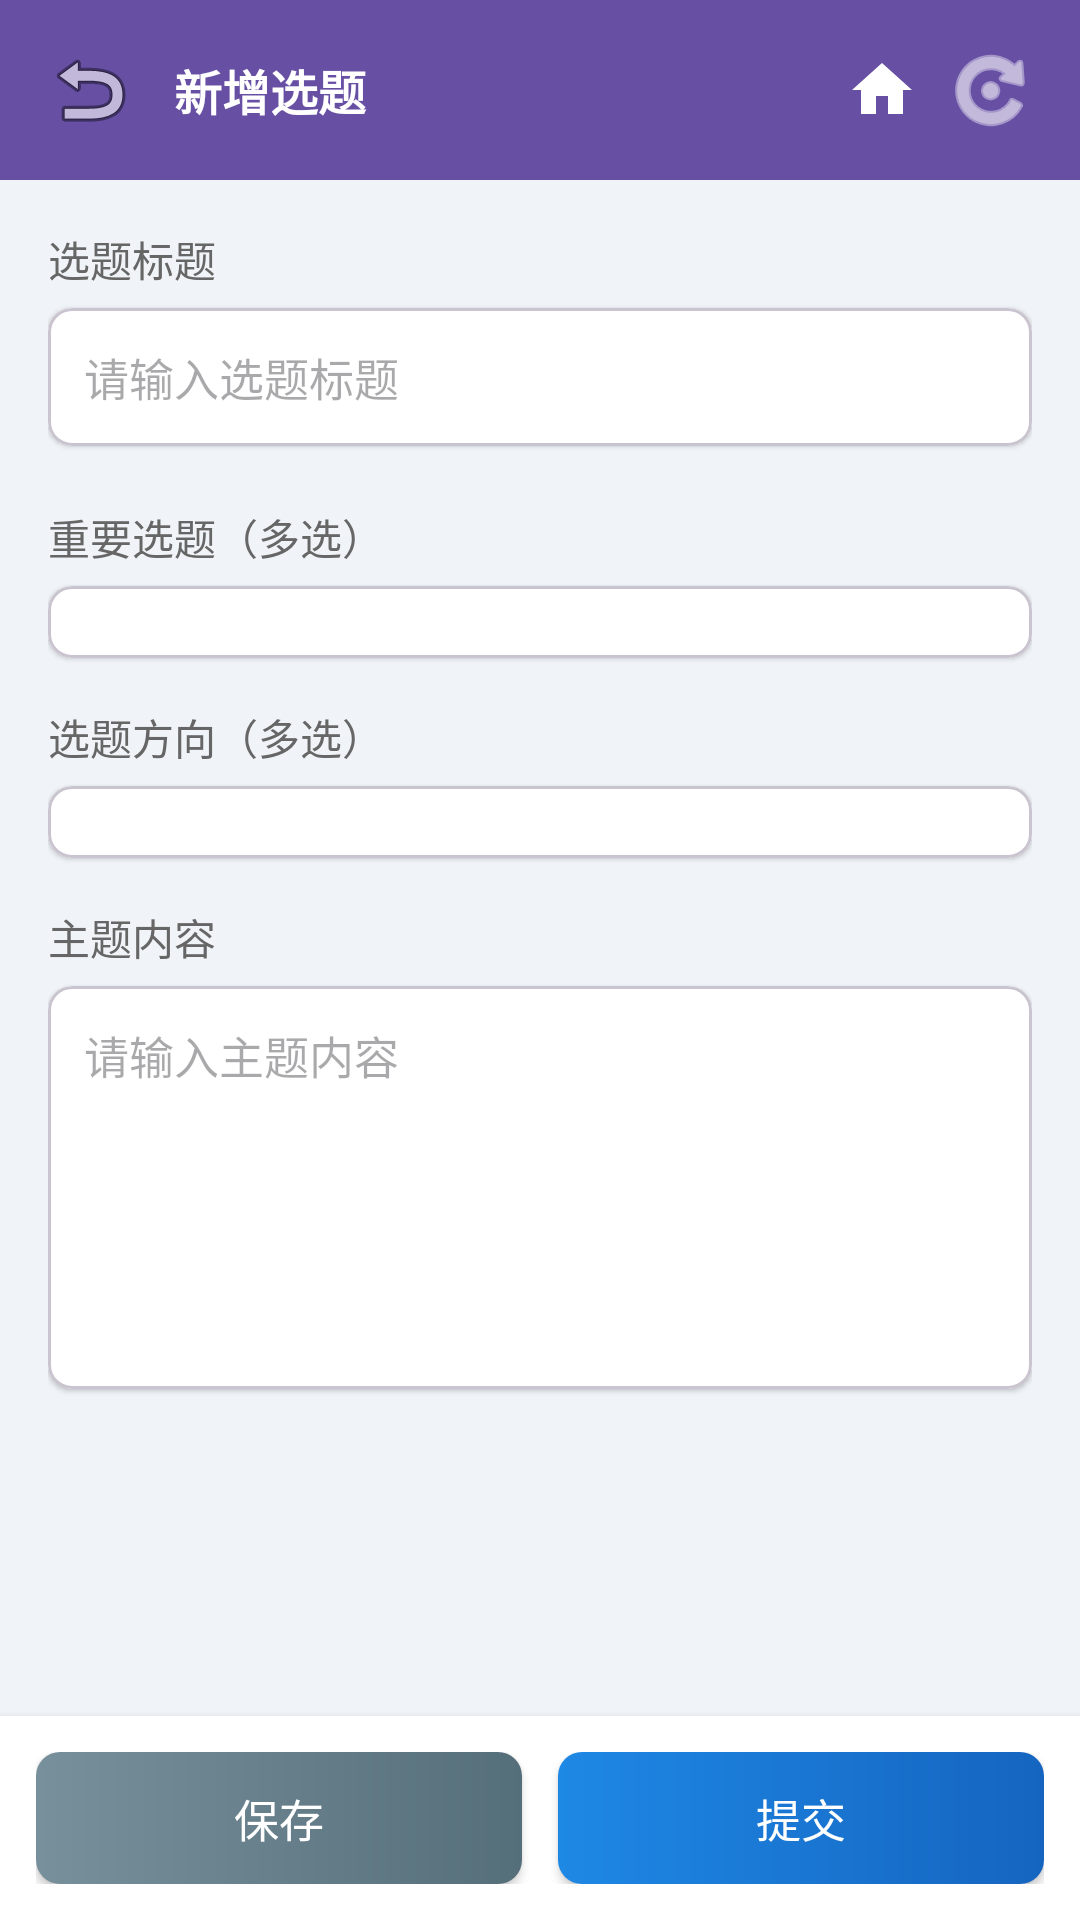

Where to tap for icons on this 1080w x 1920h app screen, as point (x, y):
主页面: point (882, 88)
刷新: point (990, 90)
返回: point (91, 90)
